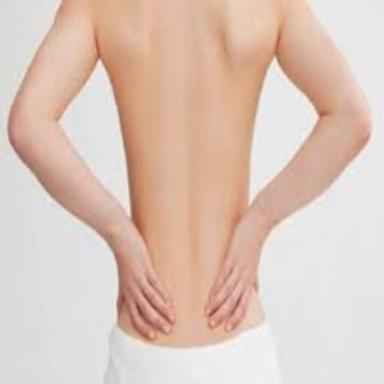normal skin: (9, 0, 371, 346)
